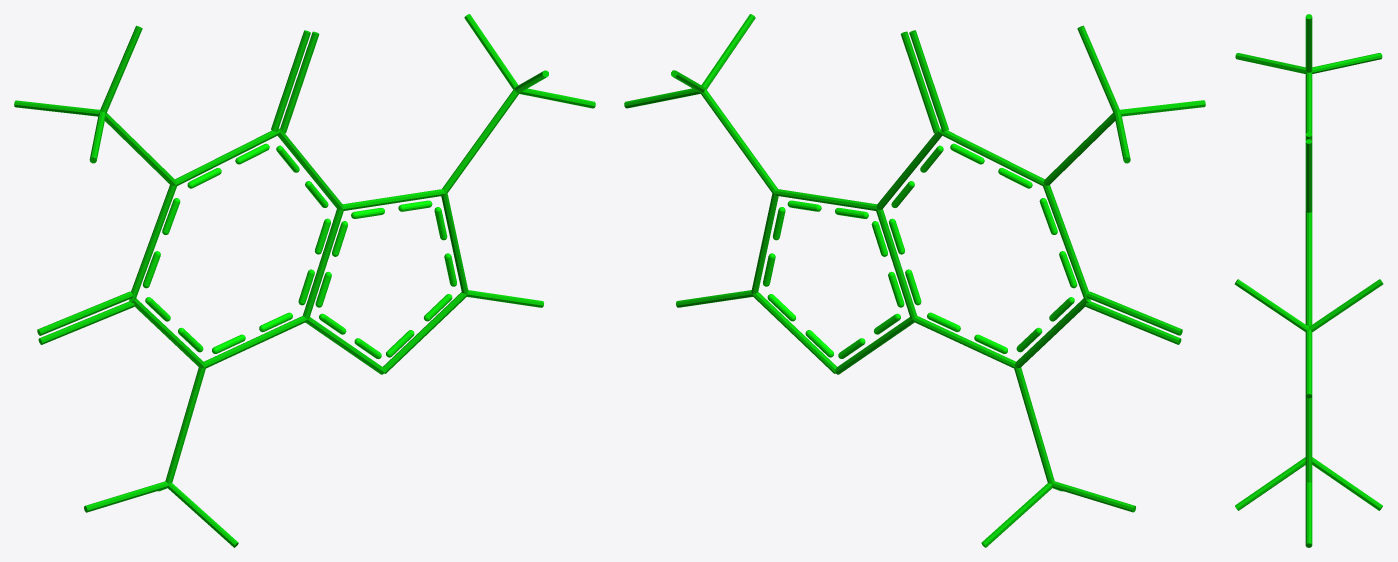
The model's file is caffeine__lines__secondary-structure.glb.
3 renders of one model, left to right at view 1: azimuth 30°, elevation 25°; view 2: azimuth 150°, elevation 25°; view 3: azimuth 270°, elevation 25°, orthographic. The views are drawn at different scales.
Visible parts, largest first — view 1: Renderer Node; view 2: Renderer Node; view 3: Renderer Node.
Part boxes in pixels (x1=…): Renderer Node: x1=14, y1=14, x2=595, y2=547; Renderer Node: x1=624, y1=14, x2=1205, y2=547; Renderer Node: x1=1234, y1=14, x2=1383, y2=547.
Size of the model in its own units: 7.36 by 6.42 by 1.85.
